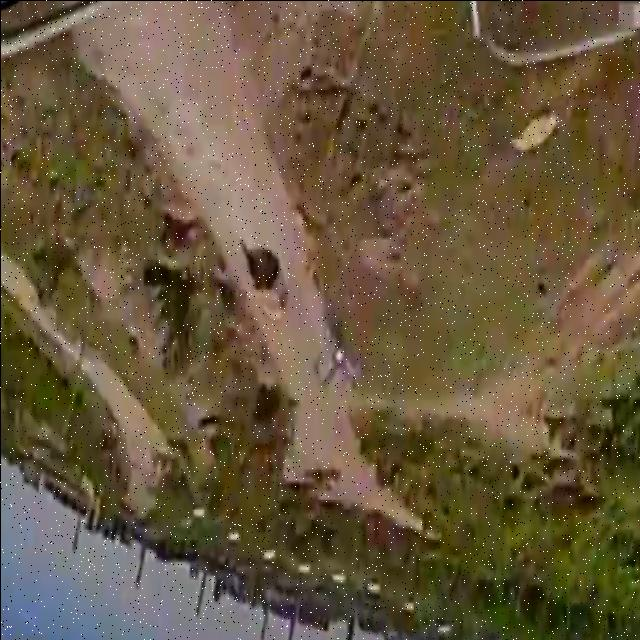CAR: (253, 252, 290, 326), (312, 466, 342, 496)
